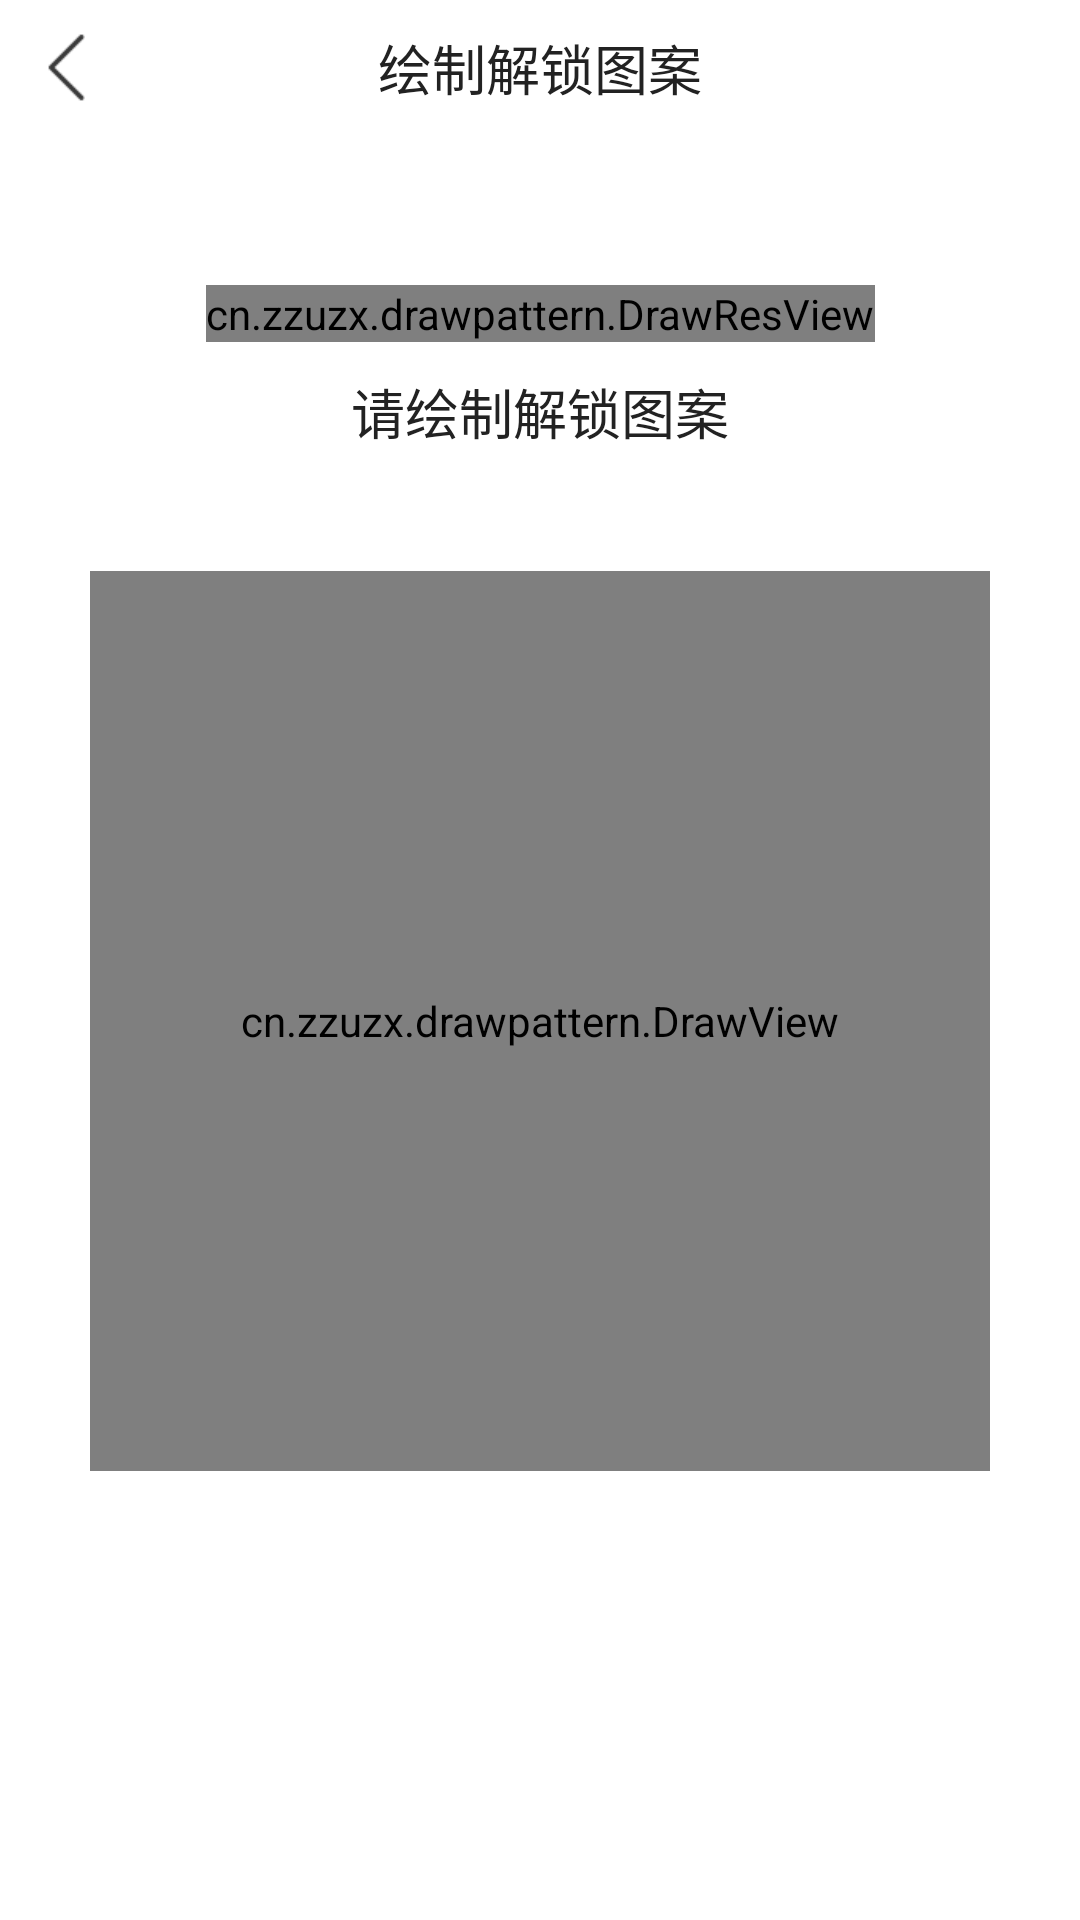

Icons on this 1080x1920 Android screen, each with the point to tap as [x,y]:
back: [66,67]
